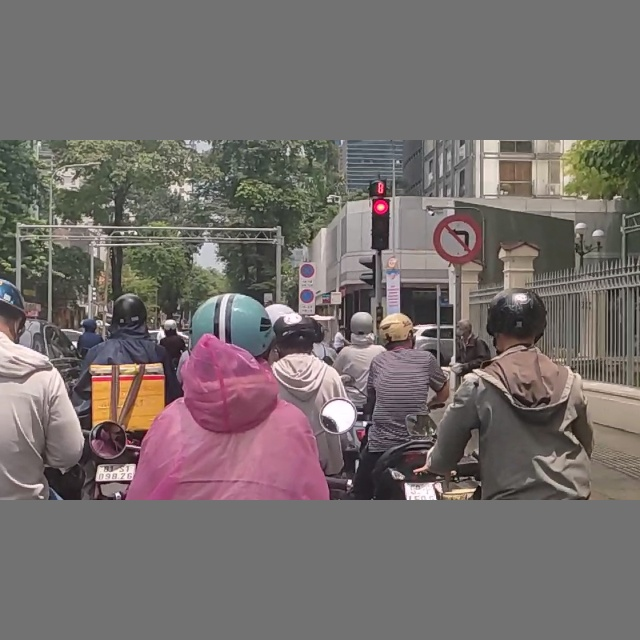P.123a: (433, 211, 481, 264)
P.130: (299, 263, 315, 279)
P.131a: (299, 287, 315, 303)
